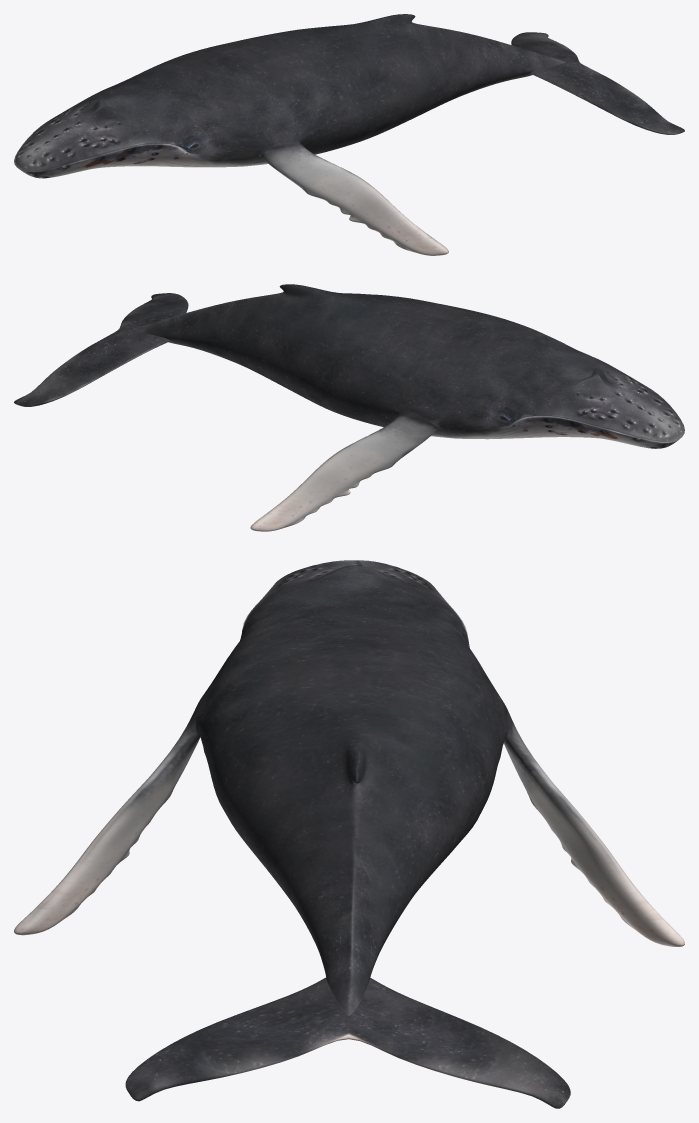
File: 10054_Whale_v2_L3.obj
The picture shows the model from 3 angles, top to bottom: view 1: azimuth 30°, elevation 25°; view 2: azimuth 150°, elevation 25°; view 3: azimuth 270°, elevation 25°; orthographic projection. The views are drawn at different scales.
Visible parts, largest first — view 1: _Whale_v2; view 2: _Whale_v2; view 3: _Whale_v2.
Part boxes in pixels (x1,y1,x2,y2): _Whale_v2: [14, 14, 684, 255]; _Whale_v2: [14, 284, 684, 531]; _Whale_v2: [14, 560, 684, 1108].
Bounding box in the file's own units: 17.81 × 4.42 × 11.3.
Materials: 1 (1 with a texture image).
